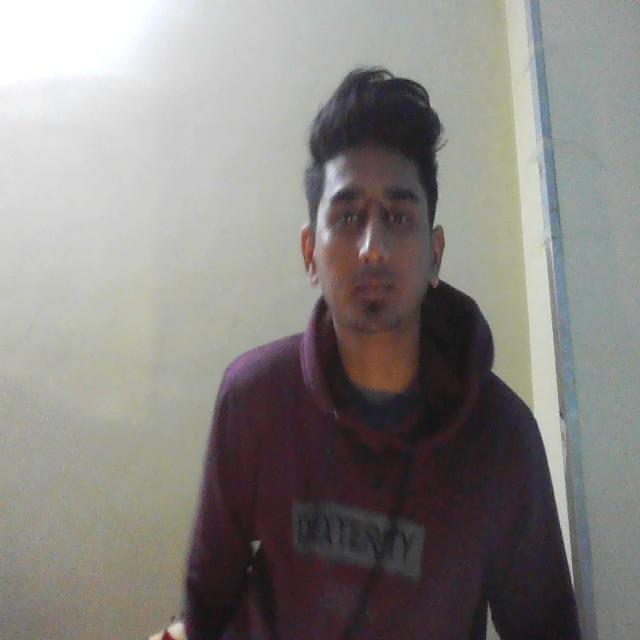real: (302, 72, 455, 361)
